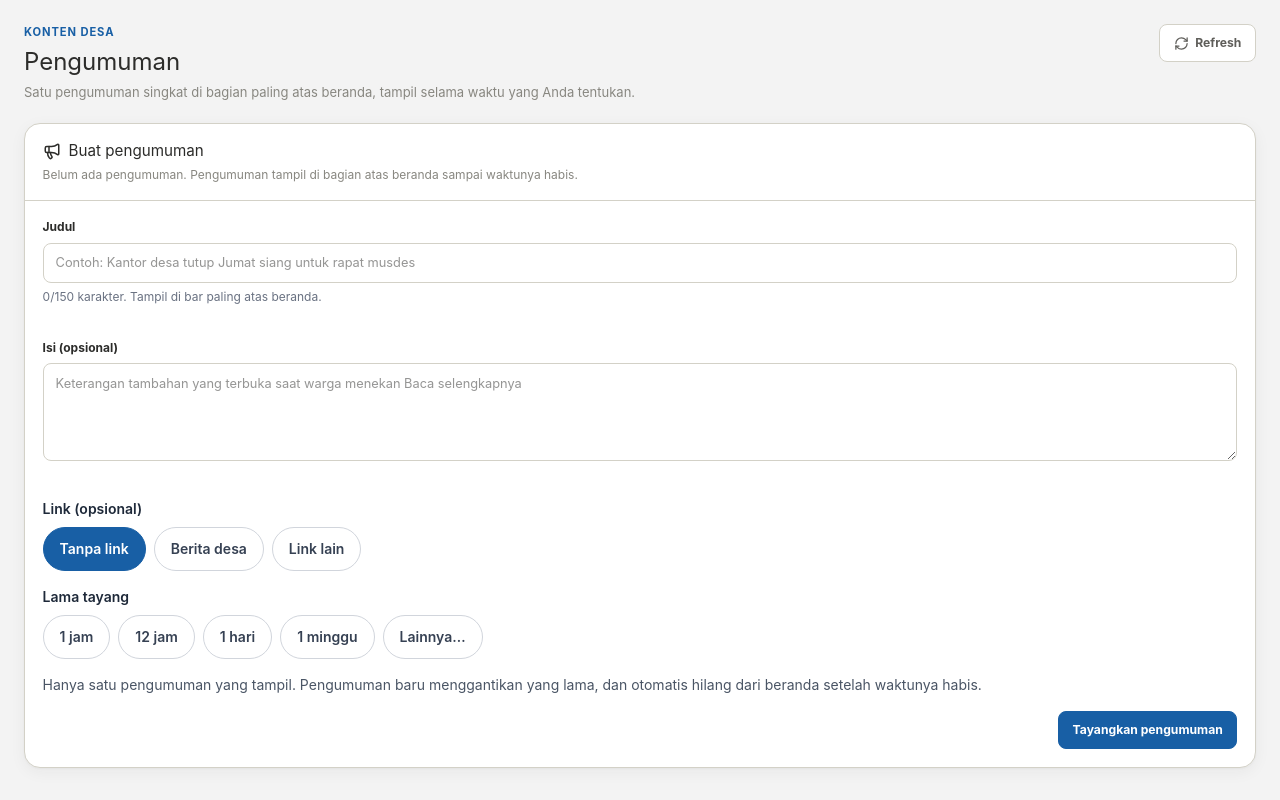
Test case: KelolaPengumumanPage › creates an announcement with a preset duration
Expected: the text "Belum ada pengumuman" is shown, [43,167,578,182]
Type "Kantor desa tutup Jumat siang" into the field labelled "Judul" at (640,263), box [43,243,1237,283]
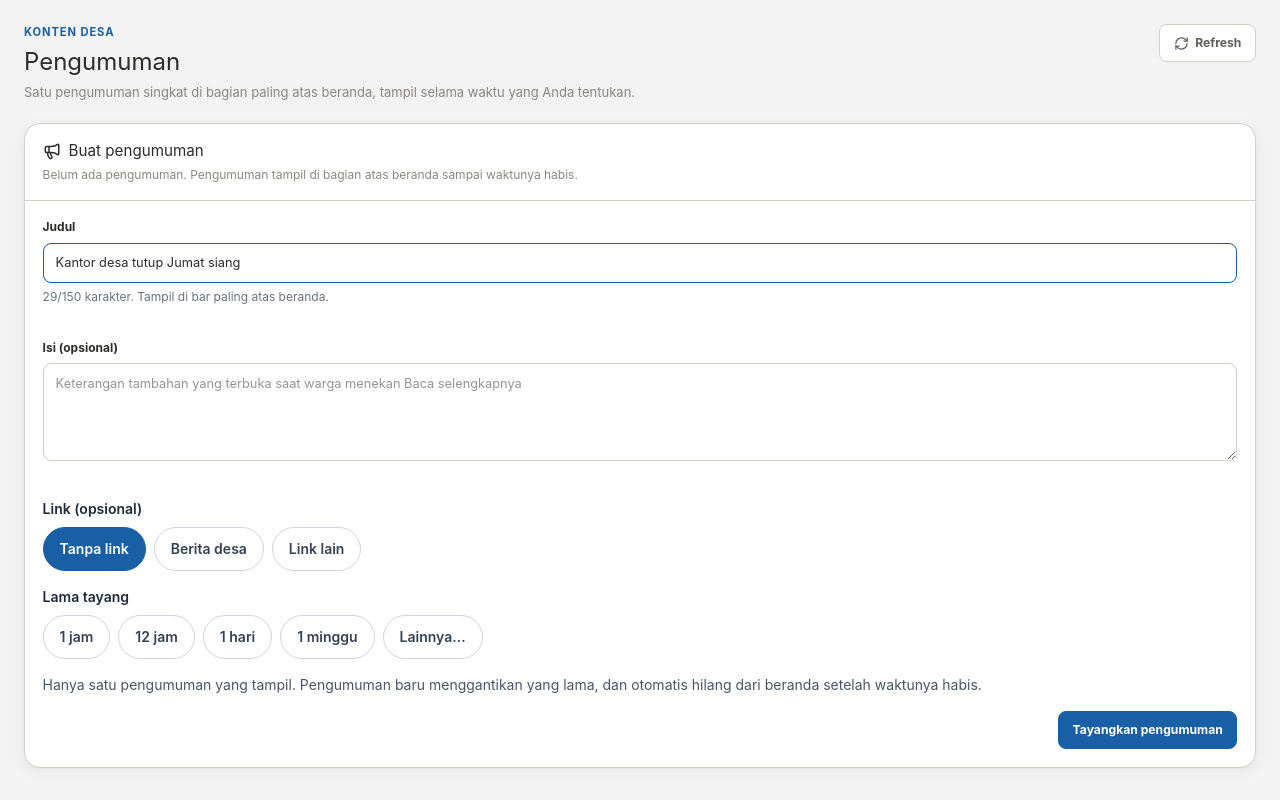
Click the button "12 jam" at (157,637), box [118,615,195,659]
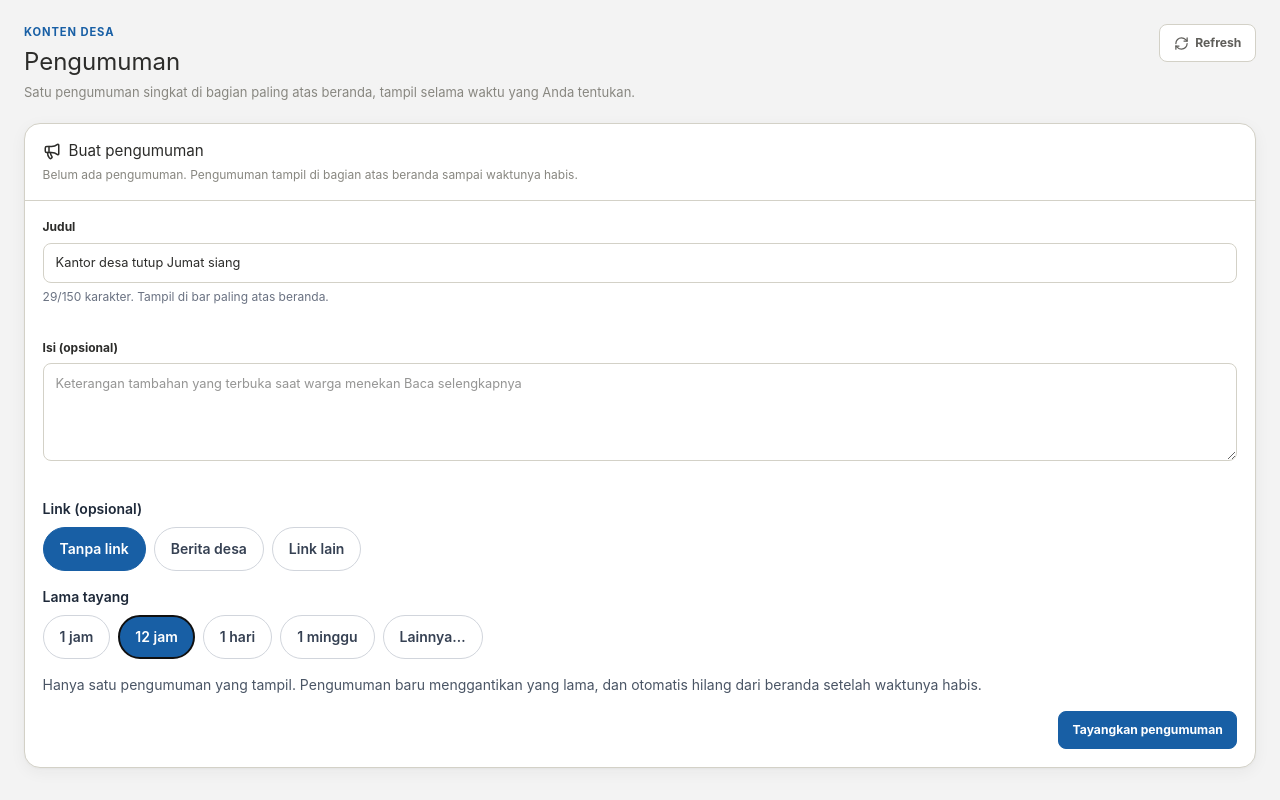
Click the button "Tayangkan pengumuman" at (1148,730), box [1058,711,1237,749]
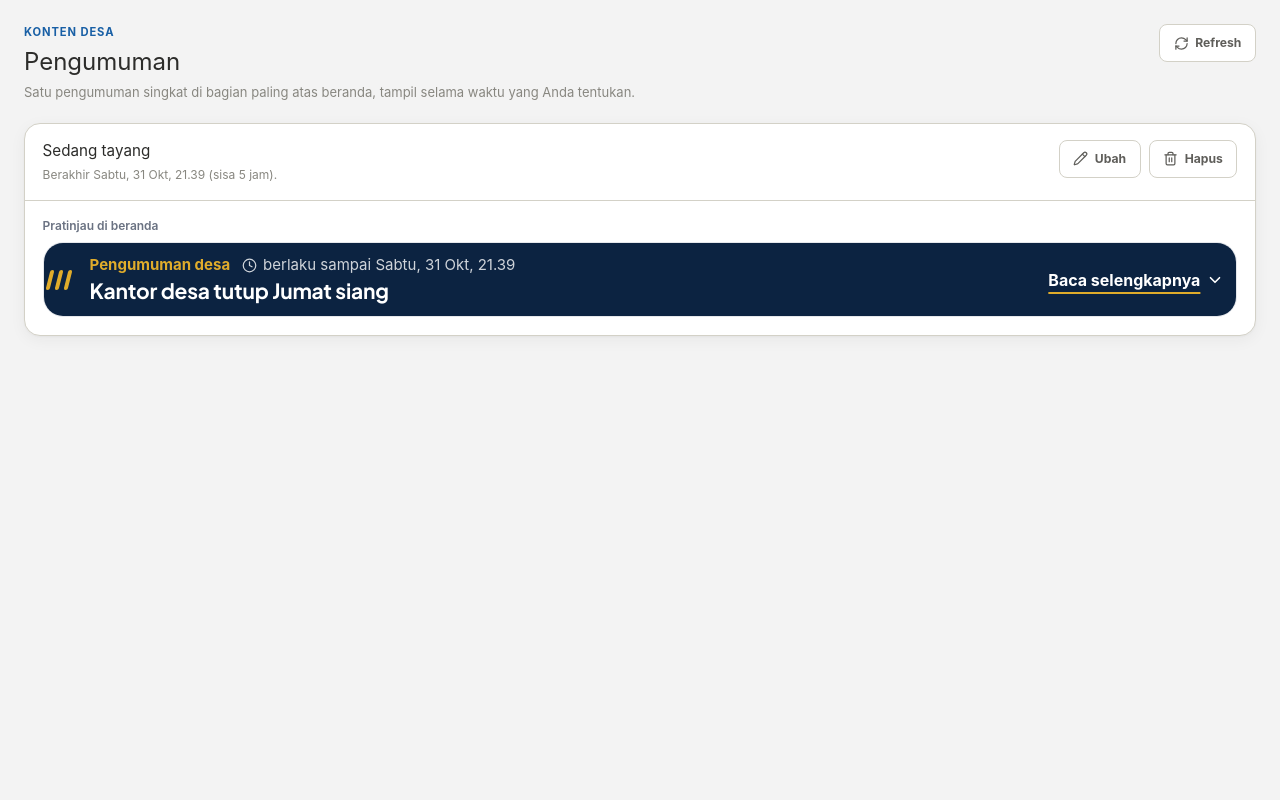
Expected: the heading "Sedang tayang" is shown, [43,141,150,160]
